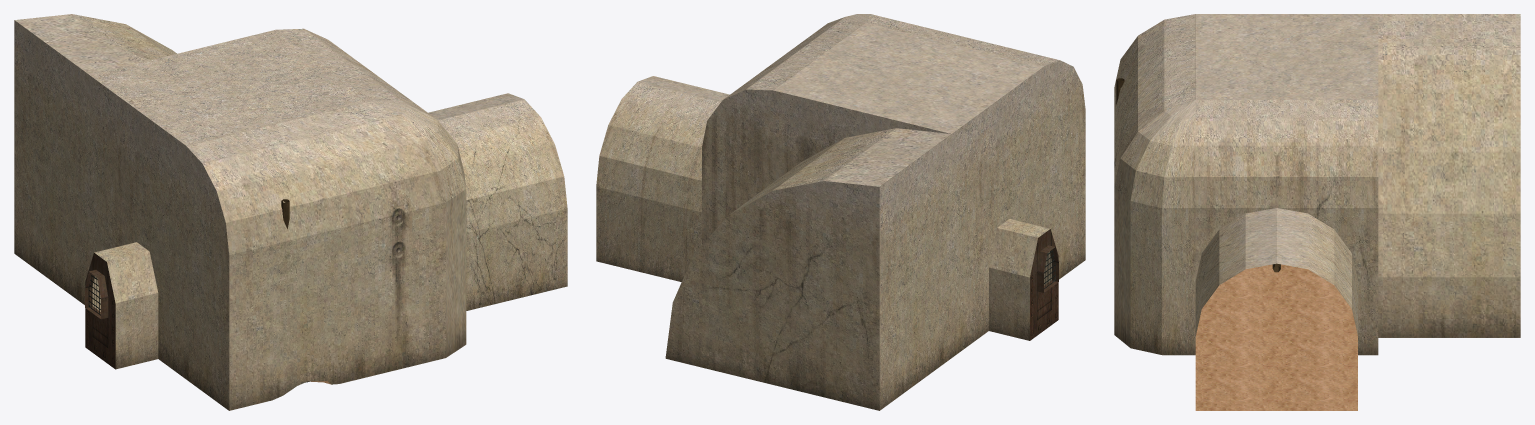
Rendered from thm_tato_jabbas_palace_r41_rancortrainer_mesh_r41.fbx.
3 renders of one model, left to right at view 1: azimuth 30°, elevation 25°; view 2: azimuth 150°, elevation 25°; view 3: azimuth 270°, elevation 25°, orthographic. The views are drawn at different scales.
Parts seen in each view (by area): view 1: mesh_node; view 2: mesh_node; view 3: mesh_node.
Boxes of the visible parts, box(x1,y1,x2,y2) form: mesh_node: box(14, 14, 567, 410); mesh_node: box(596, 14, 1085, 410); mesh_node: box(1114, 14, 1520, 410).
Bounding box in the file's own units: 11.6 × 6 × 10.
